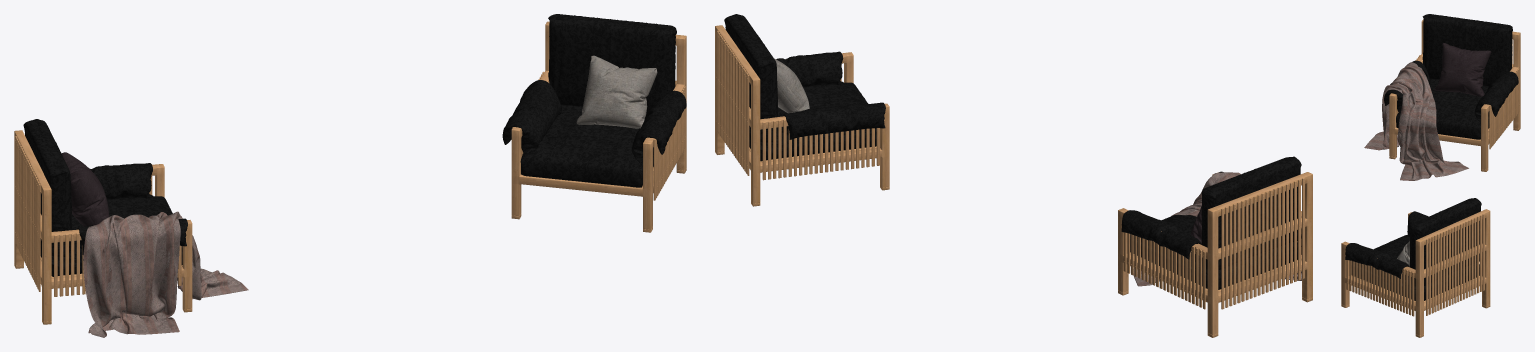
File: fauteuils.glb
The picture shows the model from 3 angles, left to right: view 1: azimuth 30°, elevation 25°; view 2: azimuth 150°, elevation 25°; view 3: azimuth 270°, elevation 25°; orthographic projection. The views are drawn at different scales.
Visible parts, largest first — view 1: obj.010, obj.008, obj.006, obj.007, obj.009, Chocofur_Textile_03.002, Chocofur_Textile_03.001; view 2: obj.006, obj.009, obj.010, obj.007, Chocofur_Textile_03.002, obj.008; view 3: obj.009, obj.007, obj.008, obj.010, obj.006, Chocofur_Textile_03.001, Chocofur_Textile_03.002.
Boxes of the visible parts, bbox=[...] form: obj.010: bbox=[502, 14, 686, 187]; obj.008: bbox=[83, 211, 248, 337]; obj.006: bbox=[14, 130, 192, 324]; obj.007: bbox=[23, 119, 187, 276]; obj.009: bbox=[511, 21, 686, 232]; Chocofur_Textile_03.002: bbox=[576, 55, 657, 128]; Chocofur_Textile_03.001: bbox=[61, 152, 109, 226]; obj.006: bbox=[1118, 172, 1312, 337]; obj.009: bbox=[715, 25, 889, 206]; obj.010: bbox=[724, 14, 885, 161]; obj.007: bbox=[1121, 156, 1301, 289]; Chocofur_Textile_03.002: bbox=[774, 58, 809, 113]; obj.008: bbox=[1133, 172, 1301, 286]; obj.009: bbox=[1341, 209, 1490, 337]; obj.007: bbox=[1384, 14, 1518, 139]; obj.008: bbox=[1364, 62, 1468, 180]; obj.010: bbox=[1345, 198, 1481, 300]; obj.006: bbox=[1389, 19, 1520, 171]; Chocofur_Textile_03.001: bbox=[1434, 43, 1491, 96]; Chocofur_Textile_03.002: bbox=[1397, 241, 1409, 266].
Size of the model in its own units: 3.94 by 0.8766 by 1.34.
5 materials, 5 textured.
